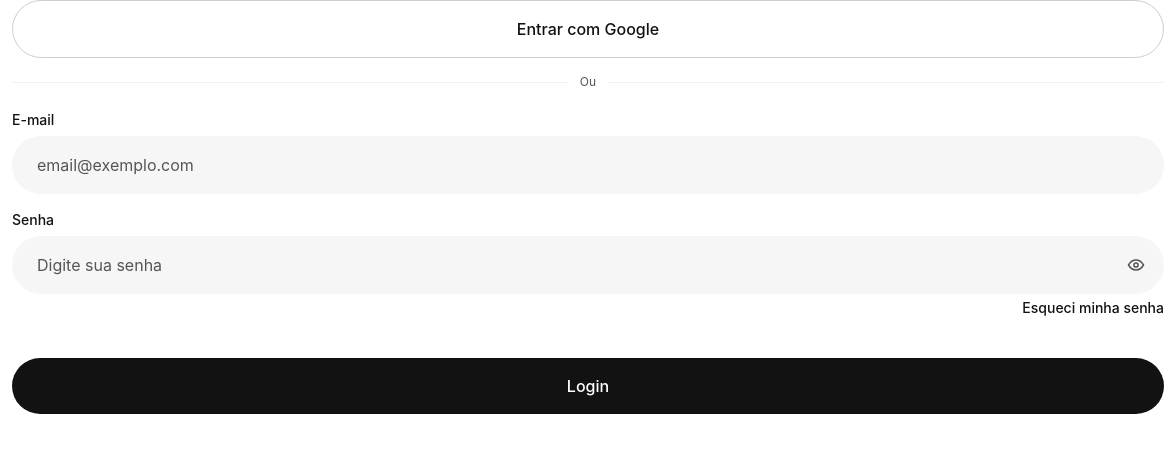
SignInForm › shows the invalid email returned by the action
Type "not-an-email" into the field labelled "E-mail" at [588, 165], box [12,136,1164,194]
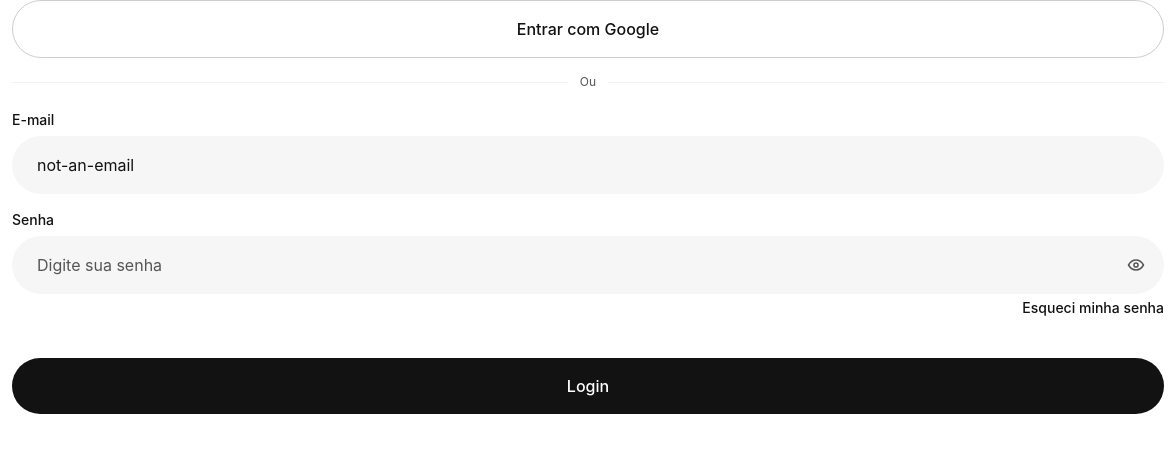
Type "a-valid-password" into the password field labelled "Senha" at [588, 265], box [12,236,1164,294]
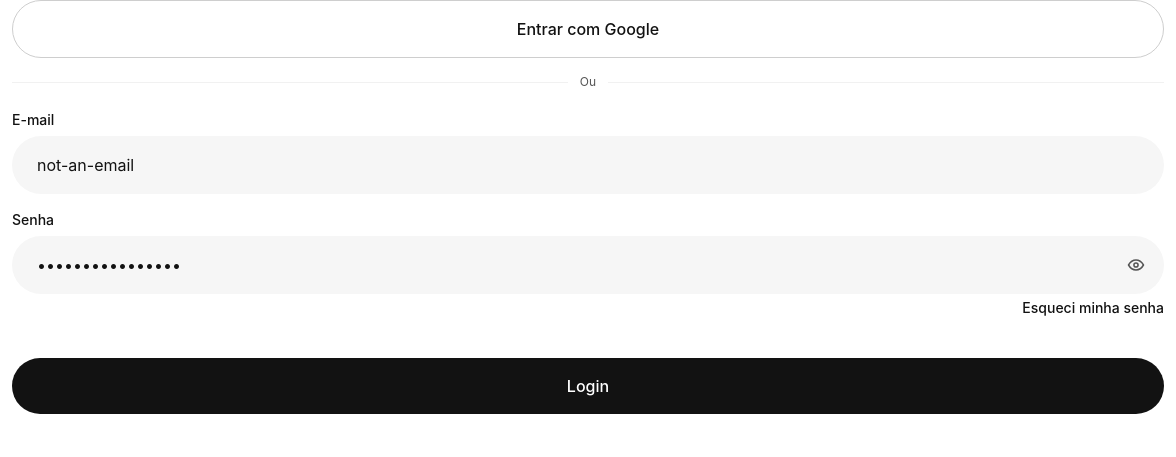
Click the button "Login" at [588, 386], box [12,358,1164,414]
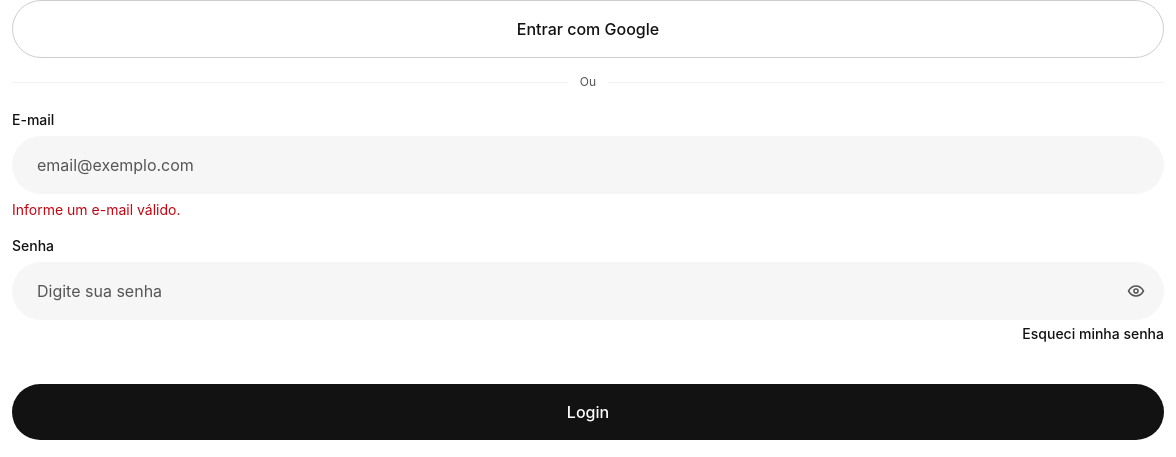
Check: the text "Informe um e-mail válido." is shown, box [12,201,180,218]
